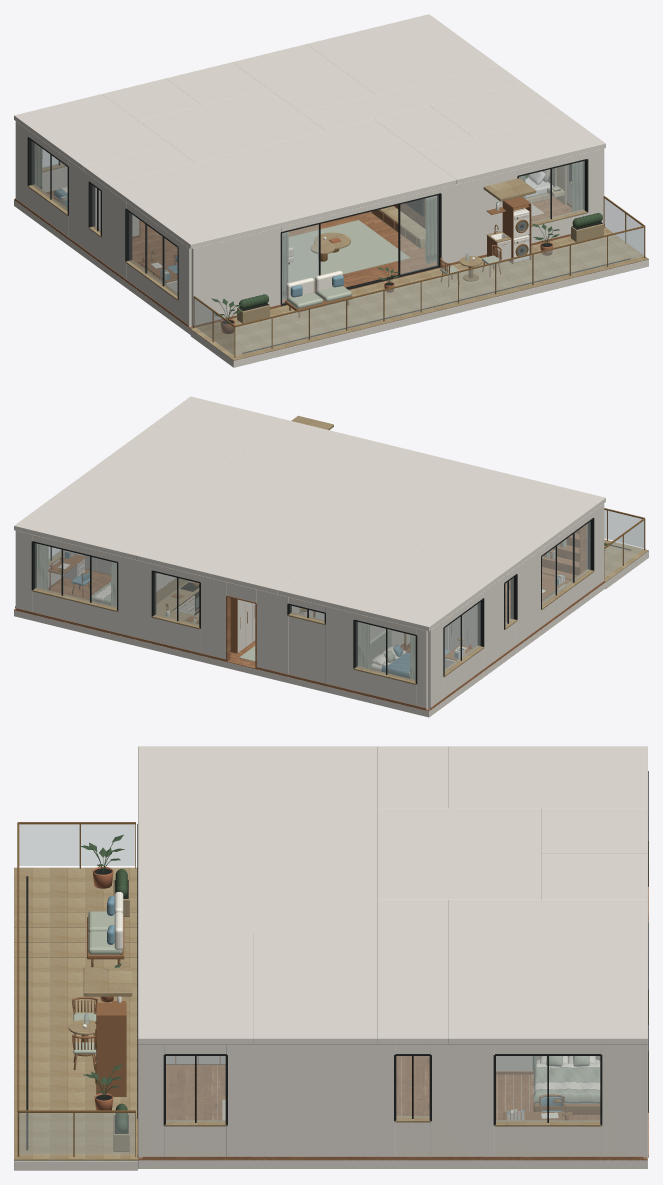
The model's file is 云澜汇_02三房两厅.glb.
The picture shows the model from 3 angles, top to bottom: view 1: azimuth 30°, elevation 25°; view 2: azimuth 150°, elevation 25°; view 3: azimuth 270°, elevation 25°; orthographic projection. The views are drawn at different scales.
Visible parts, largest first — view 1: Ceiling living0, Balcony safety glass.001, Ceiling bed_northwest0, Ceiling dining0, Ceiling bed_primary0, Wall outer_south.002, Ceiling bed_northeast0, Ceiling kitchen0, Ceiling gallery_west0, Floor individually jointed oak, Wall outer_south.001, Ceiling bed_primary1 (+37 smaller); view 2: Ceiling living0, Ceiling bed_northwest0, Ceiling dining0, Ceiling bed_northeast0, Ceiling bed_primary0, Ceiling kitchen0, Ceiling gallery_west0, Ceiling bed_primary1, Structure main floor slab, Ceiling foyer0, Wall outer_north.001, Ceiling bath_common0 (+42 smaller); view 3: Ceiling living0, Wall outer_west.001, Ceiling bed_northwest0, Ceiling dining0, Ceiling bed_primary0, Ceiling bed_northeast0, Ceiling kitchen0, Ceiling gallery_west0, Ceiling bed_primary1, Floor individually jointed oak, Wall outer_west.002, Ceiling foyer0 (+26 smaller).
Boxes of the visible parts, box(x1,y1,x2,y2) form: Ceiling living0: box(107, 119, 456, 248); Balcony safety glass.001: box(235, 227, 644, 355); Ceiling bed_northwest0: box(307, 14, 497, 94); Ceiling dining0: box(139, 89, 325, 162); Ceiling bed_primary0: box(417, 114, 605, 183); Wall outer_south.002: box(191, 227, 280, 327); Ceiling bed_northeast0: box(14, 94, 170, 169); Ceiling kitchen0: box(232, 44, 375, 112); Ceiling gallery_west0: box(302, 65, 522, 130); Floor individually jointed oak: box(14, 193, 605, 328); Wall outer_south.001: box(441, 169, 517, 264); Ceiling bed_primary1: box(430, 83, 565, 136); Ceiling living0: box(257, 433, 605, 562); Ceiling bed_northwest0: box(14, 475, 204, 559); Ceiling dining0: box(248, 505, 434, 578); Ceiling bed_northeast0: box(341, 555, 498, 631); Ceiling bed_primary0: box(151, 396, 339, 461); Ceiling kitchen0: box(136, 505, 279, 577); Ceiling gallery_west0: box(83, 457, 304, 522); Ceiling bed_primary1: box(108, 426, 243, 479); Structure main floor slab: box(14, 582, 605, 717); Ceiling foyer0: box(211, 547, 313, 594); Wall outer_north.001: box(117, 555, 152, 640); Ceiling bath_common0: box(277, 563, 377, 609); Ceiling living0: box(138, 746, 377, 933); Wall outer_west.001: box(226, 1045, 395, 1156); Ceiling bed_northwest0: box(448, 952, 647, 1044); Ceiling dining0: box(377, 808, 541, 899); Ceiling bed_primary0: box(138, 933, 253, 1044); Ceiling bed_northeast0: box(448, 746, 647, 808); Ceiling kitchen0: box(448, 900, 647, 952); Ceiling gallery_west0: box(377, 900, 448, 1044); Ceiling bed_primary1: box(253, 973, 377, 1044); Floor individually jointed oak: box(138, 1056, 647, 1160); Wall outer_west.002: box(430, 1045, 494, 1156); Ceiling foyer0: box(541, 853, 647, 899).
Size of the model in its own units: 15.65 by 3.29 by 14.32.
Materials: 38 (6 with a texture image).
